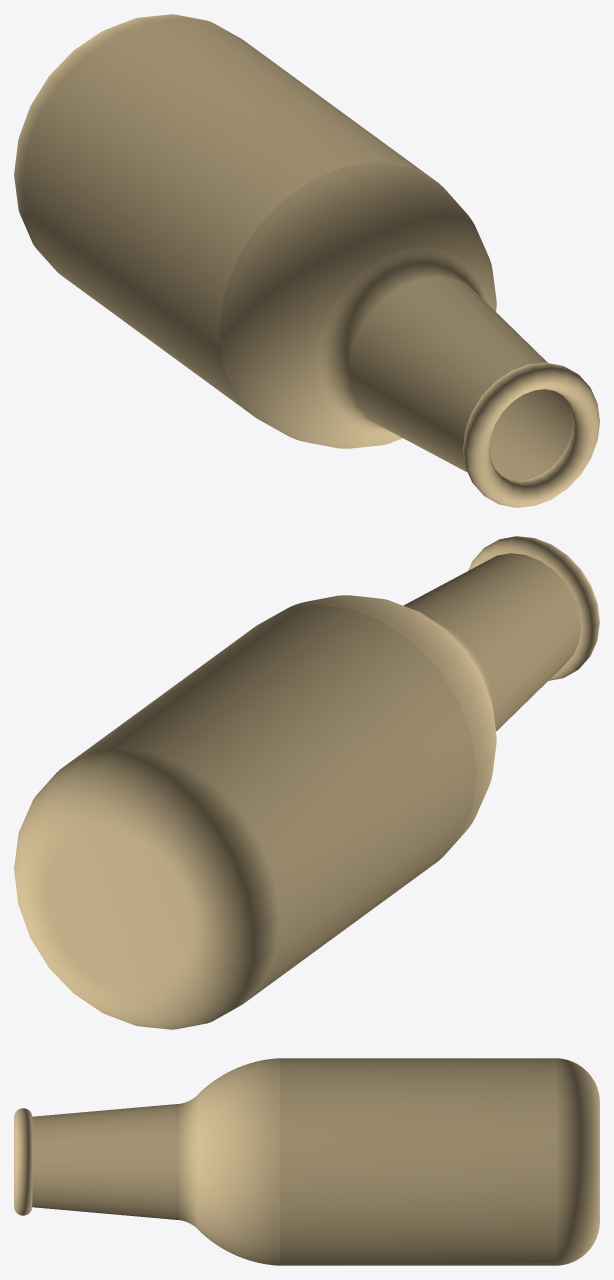
Rendered from model_align.obj.
The picture shows the model from 3 angles, top to bottom: view 1: azimuth 30°, elevation 25°; view 2: azimuth 150°, elevation 25°; view 3: azimuth 270°, elevation 25°; orthographic projection. The views are drawn at different scales.
Visible parts, largest first — view 1: mesh1_mesh1-geometry; view 2: mesh1_mesh1-geometry; view 3: mesh1_mesh1-geometry.
Boxes of the visible parts, left/top/right/bottom form: mesh1_mesh1-geometry: left=14, top=14, right=599, bottom=507; mesh1_mesh1-geometry: left=14, top=536, right=599, bottom=1029; mesh1_mesh1-geometry: left=14, top=1058, right=599, bottom=1265.
Size of the model in its own units: 0.0696 by 0.0696 by 0.1958.
